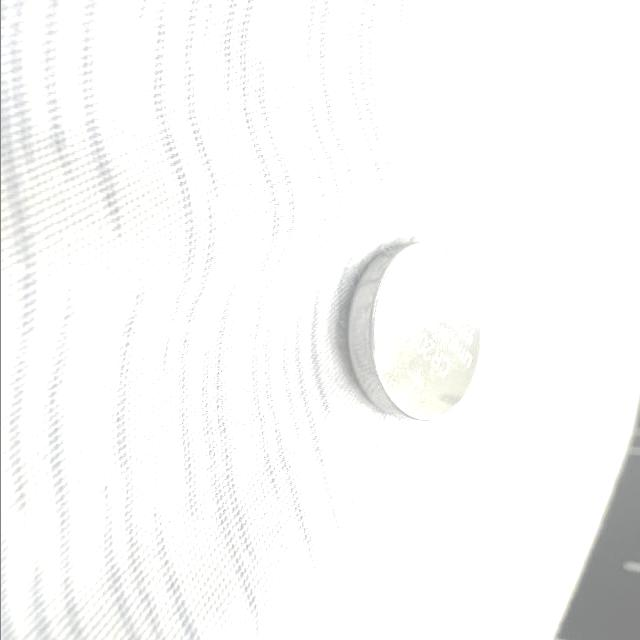COIN: (344, 238, 484, 421)
